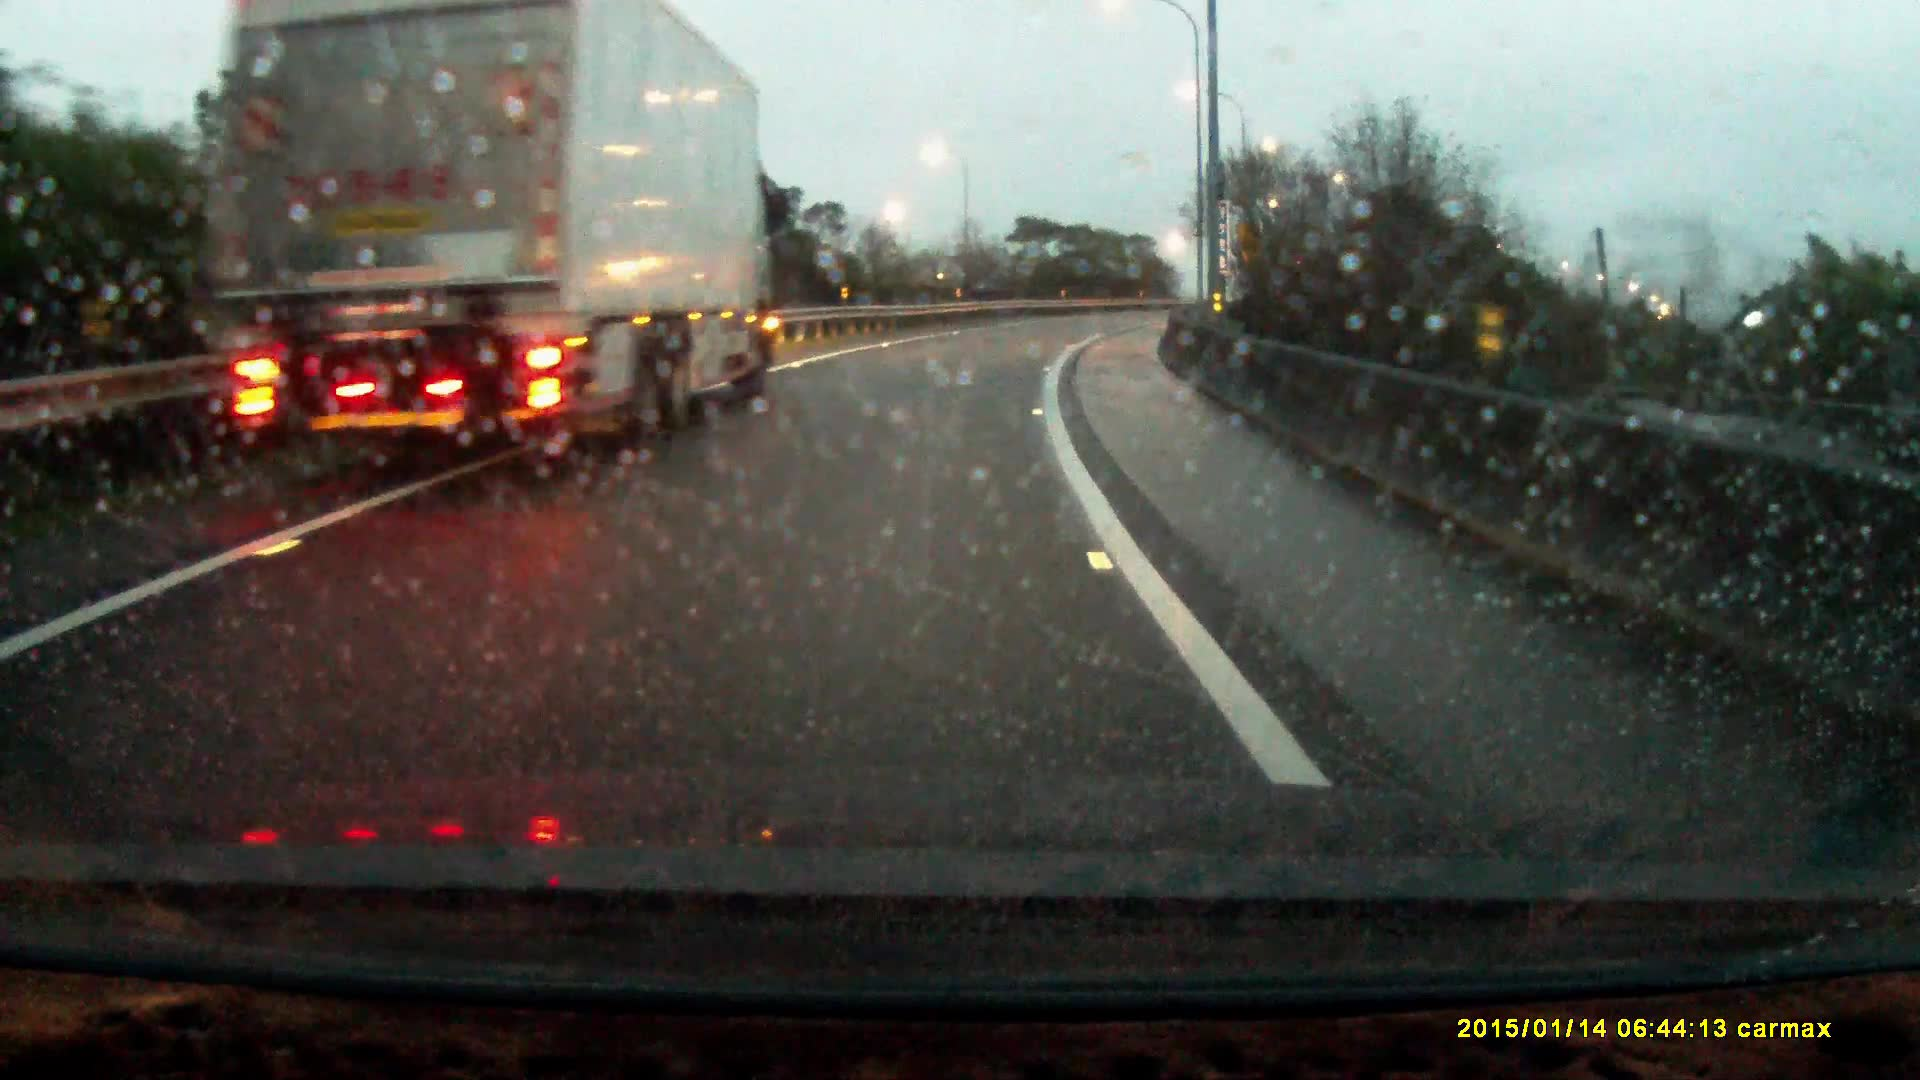vehicle: (171, 1, 787, 477)
